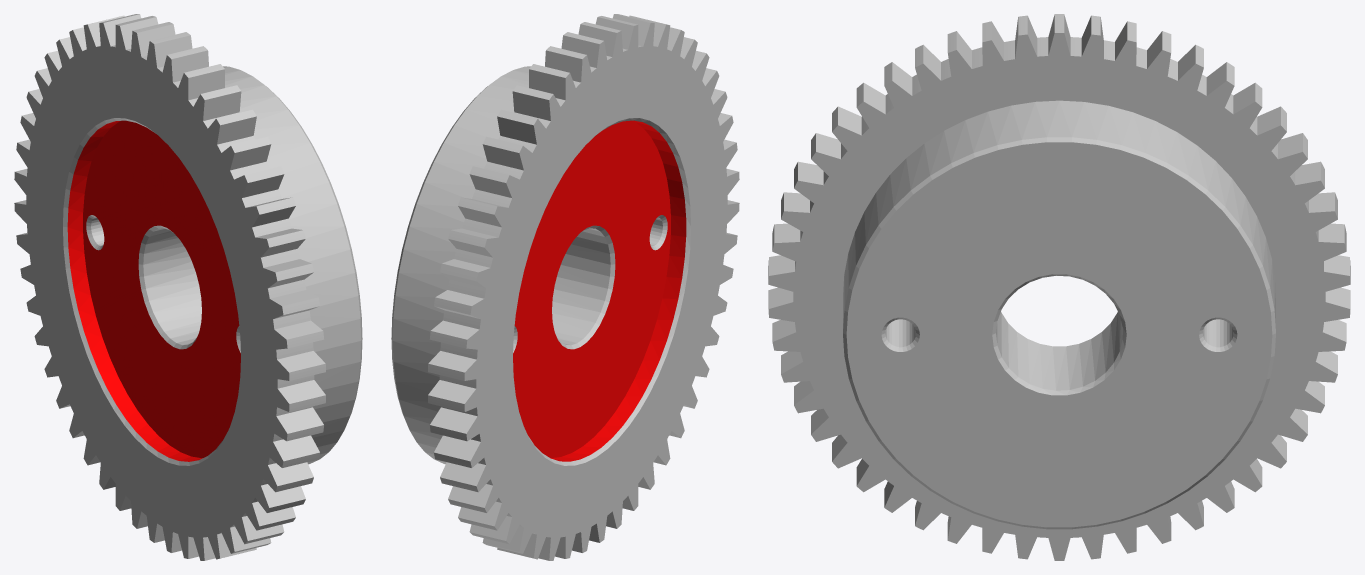
Rendered from 963504_RW44_IT08_stp_208_209.obj.
The picture shows the model from 3 angles, left to right: view 1: azimuth 30°, elevation 25°; view 2: azimuth 150°, elevation 25°; view 3: azimuth 270°, elevation 25°; orthographic projection. The views are drawn at different scales.
Parts seen in each view (by area): view 1: Object1; view 2: Object1; view 3: Object1.
Boxes of the visible parts, x1=… form: Object1: x1=14, y1=14, x2=362, y2=560; Object1: x1=391, y1=14, x2=739, y2=560; Object1: x1=768, y1=14, x2=1350, y2=560.
Bounding box in the file's own units: 18 × 78 × 77.92.
